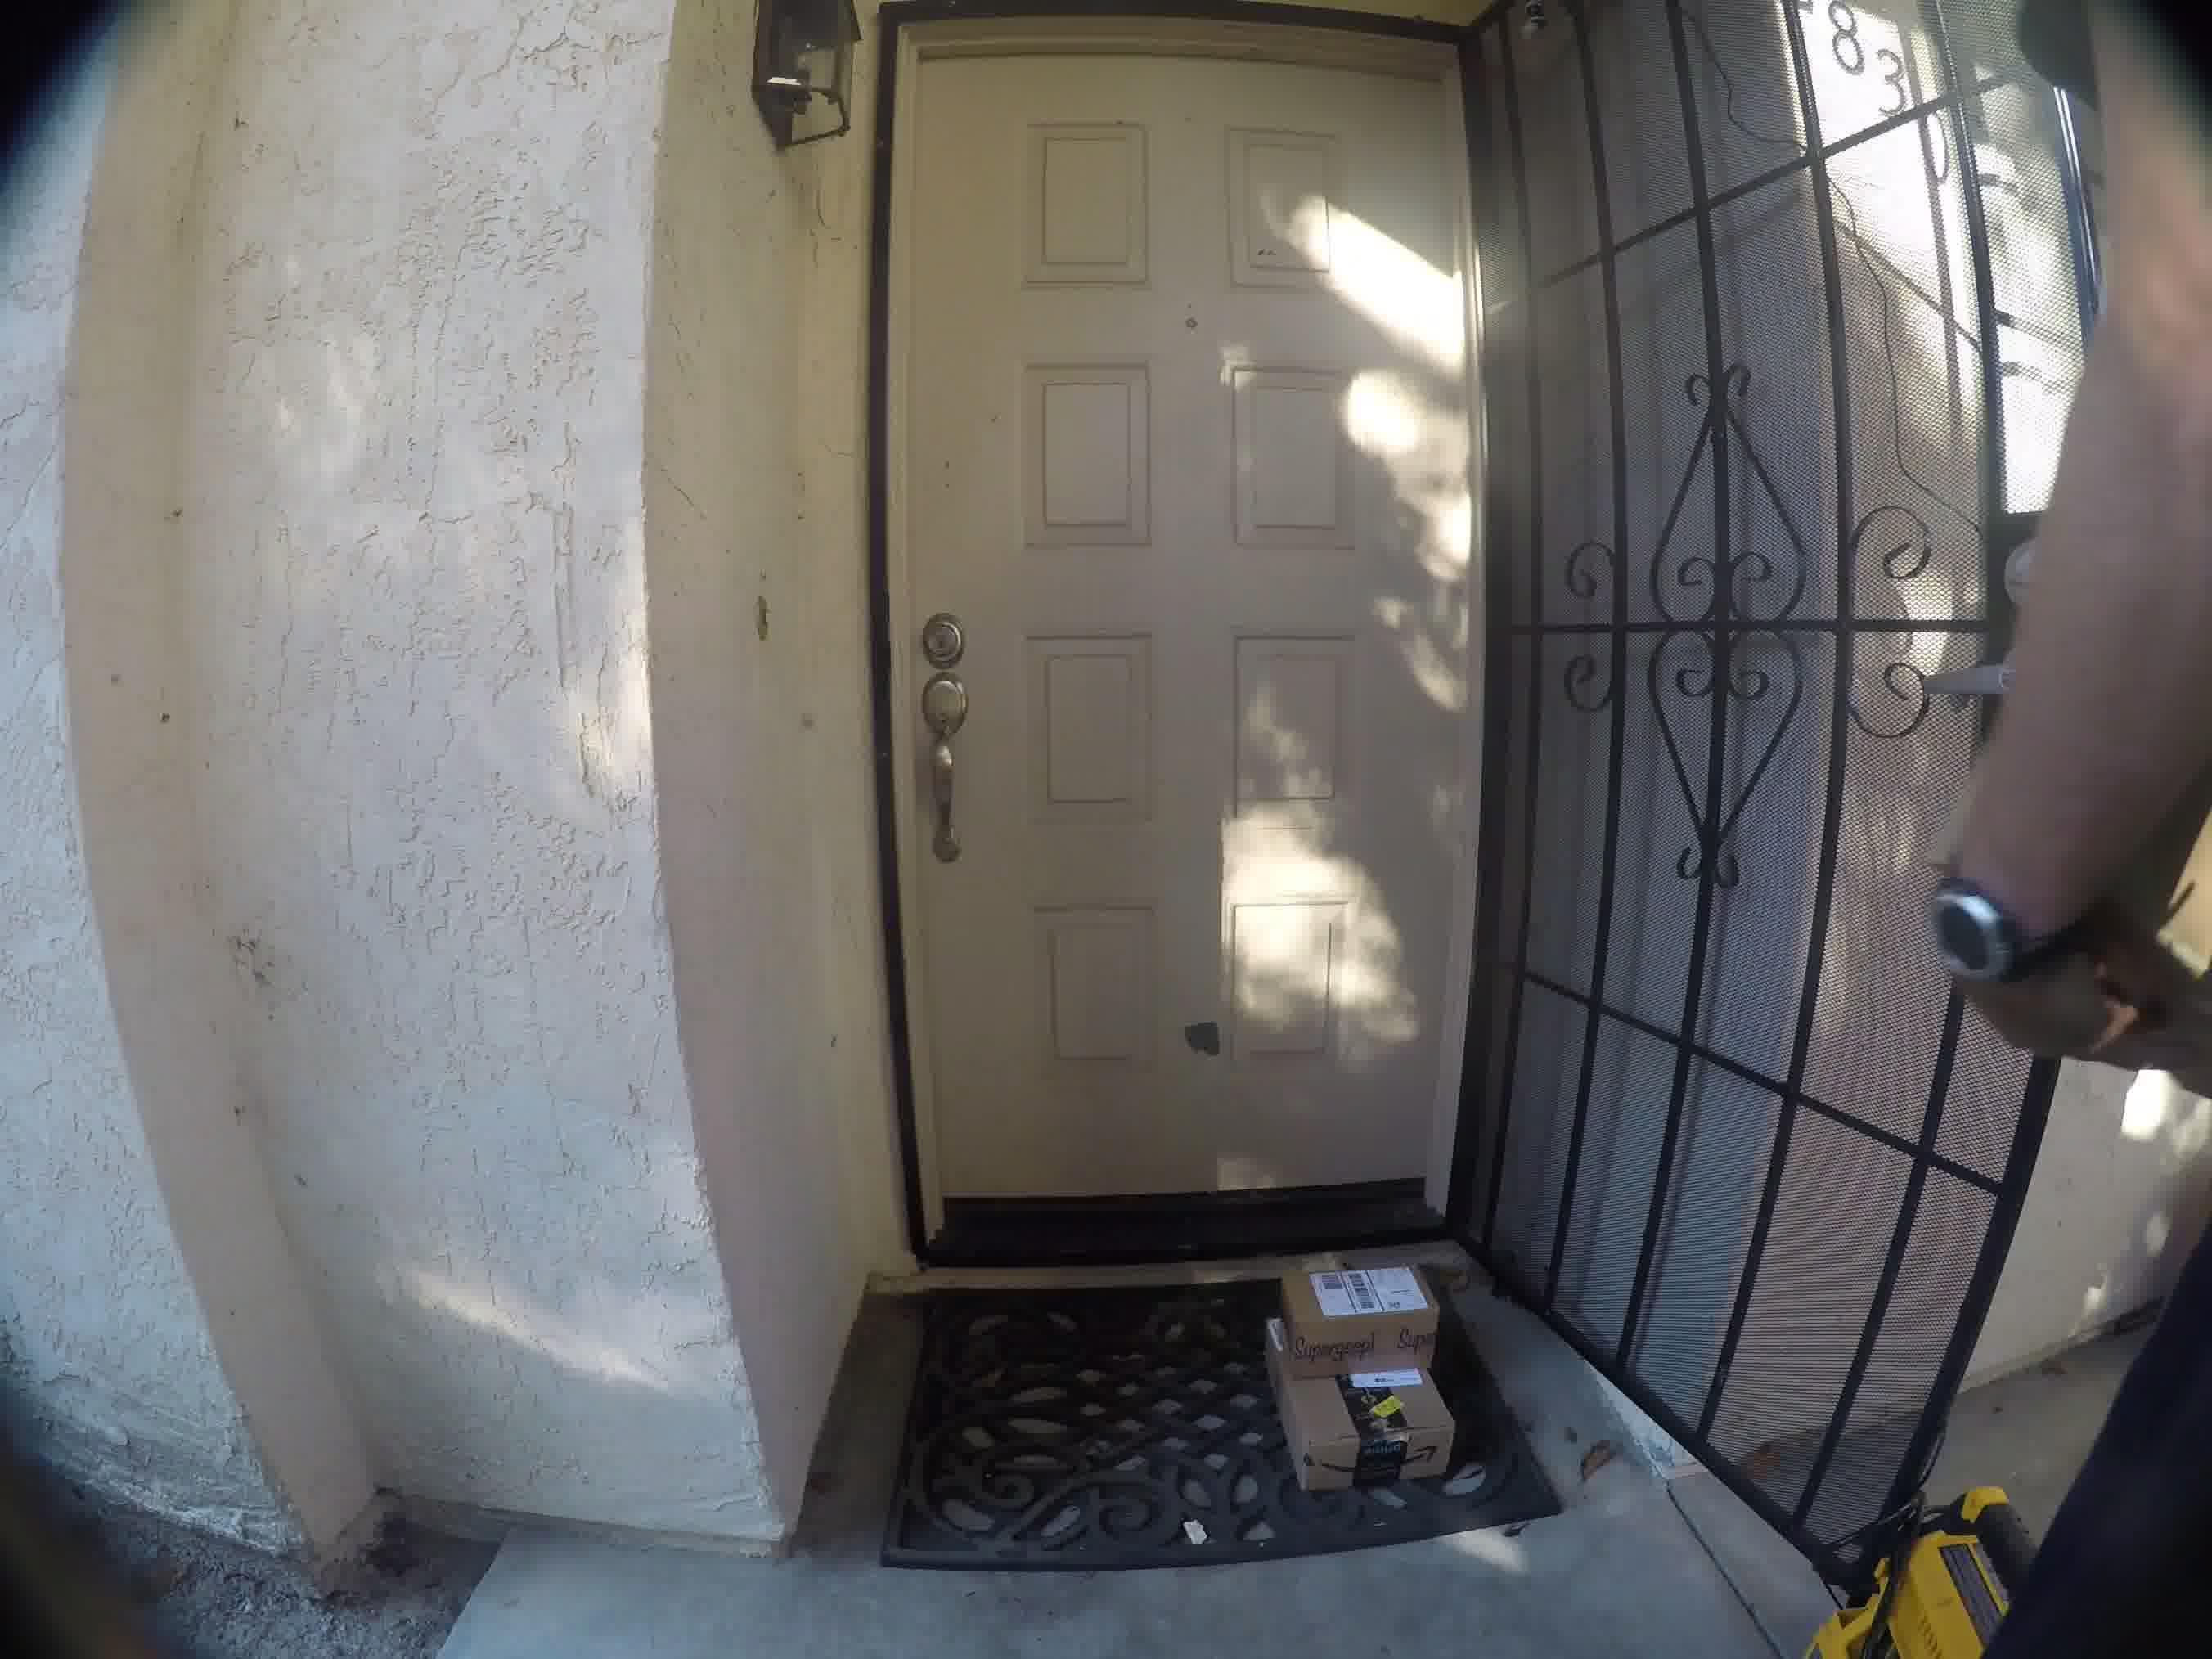box: (1259, 1361, 1475, 1500), (1264, 1256, 1444, 1358)
